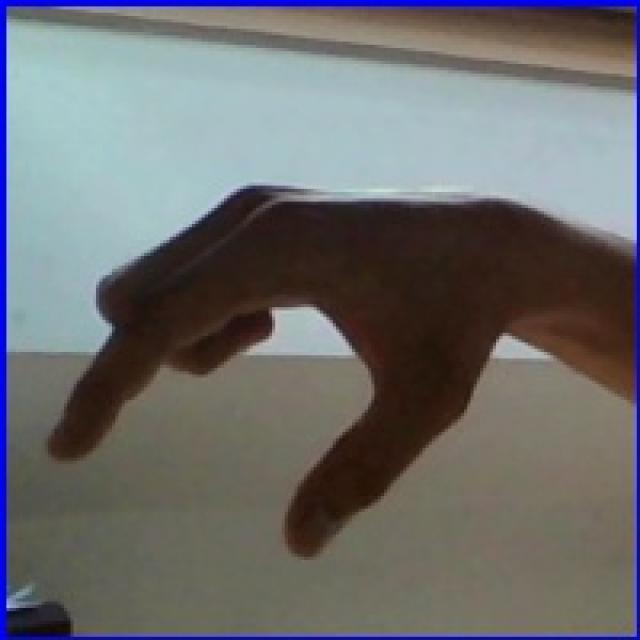Q: (16, 107, 635, 576)
